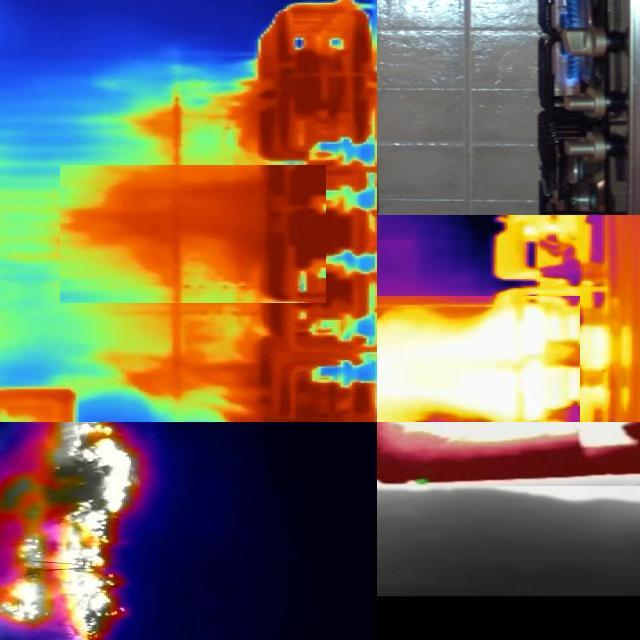fire: (1, 423, 140, 640), (378, 305, 619, 426), (378, 296, 581, 423), (242, 1, 374, 163), (262, 164, 378, 302), (264, 308, 376, 424), (386, 424, 637, 450), (511, 217, 583, 246)
